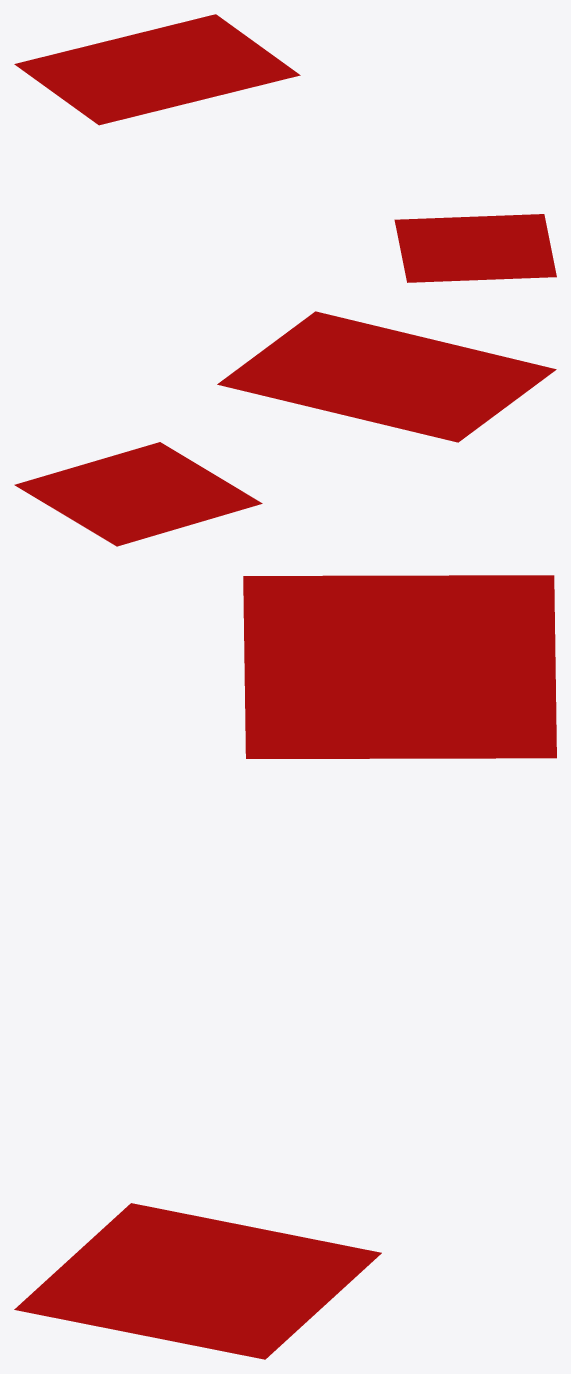
Rendered from n_market_place01_goods_lod0.glb.
3 renders of one model, top to bottom at view 1: azimuth 30°, elevation 25°; view 2: azimuth 150°, elevation 25°; view 3: azimuth 270°, elevation 25°, orthographic. The views are drawn at different scales.
Visible parts, largest first — view 1: MODEL_n_market_place01_goods_lod0; view 2: MODEL_n_market_place01_goods_lod0; view 3: MODEL_n_market_place01_goods_lod0.
Boxes of the visible parts, box(x1,y1,x2,y2) form: MODEL_n_market_place01_goods_lod0: box(14, 14, 556, 282); MODEL_n_market_place01_goods_lod0: box(14, 311, 556, 546); MODEL_n_market_place01_goods_lod0: box(14, 575, 556, 1359).
Size of the model in its own units: 0.6202 by 0.2661 by 0.3483.
